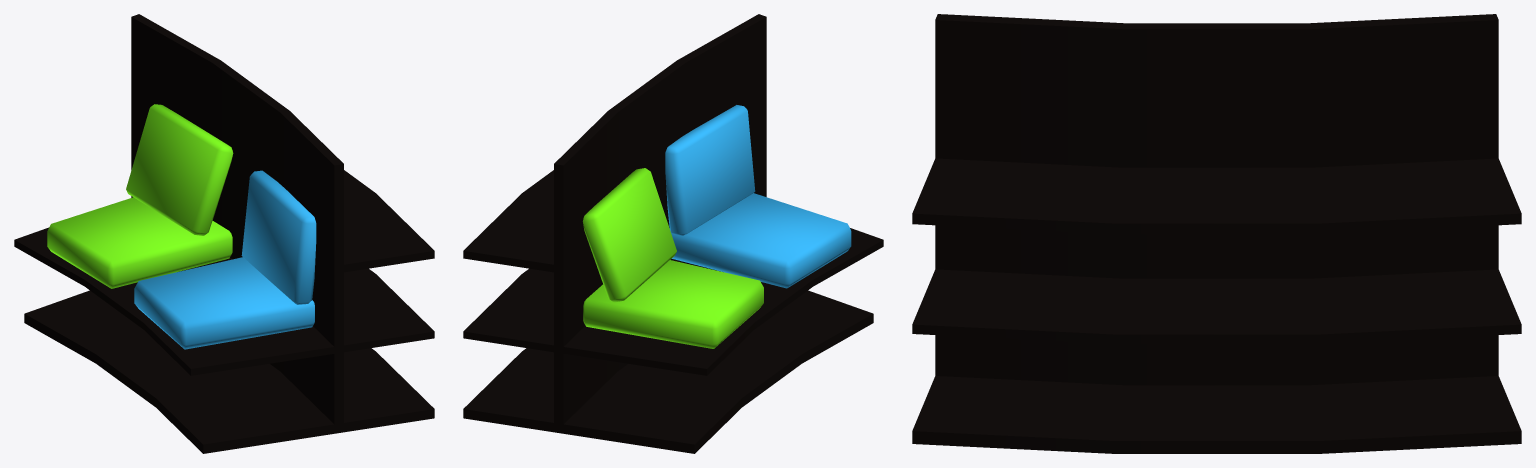
Rendered from BanBliothèque_Pattern3.FBX.
3 renders of one model, left to right at view 1: azimuth 30°, elevation 25°; view 2: azimuth 150°, elevation 25°; view 3: azimuth 270°, elevation 25°, orthographic. The views are drawn at different scales.
Visible parts, largest first — view 1: Box001; view 2: Box001; view 3: Box001.
Boxes of the visible parts, x1=… form: Box001: x1=14, y1=14, x2=434, y2=453; Box001: x1=463, y1=14, x2=883, y2=453; Box001: x1=912, y1=14, x2=1521, y2=453.
Bounding box in the file's own units: 82.99 × 90.06 × 135.
